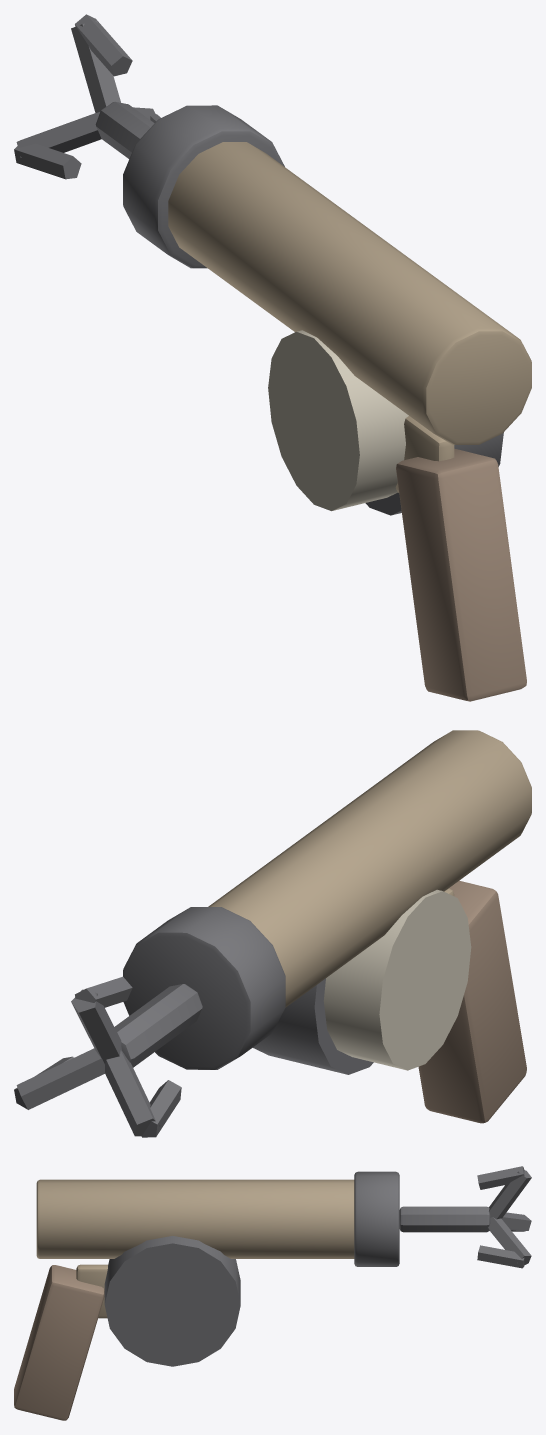
Rendered from tl_grapple.gltf.
The picture shows the model from 3 angles, top to bottom: view 1: azimuth 30°, elevation 25°; view 2: azimuth 150°, elevation 25°; view 3: azimuth 270°, elevation 25°; orthographic projection. The views are drawn at different scales.
Visible parts, largest first — view 1: Body, Hook; view 2: Body, Hook; view 3: Body, Hook.
Part boxes in pixels (bbox=[...]): Body: bbox=[123, 105, 531, 701]; Hook: bbox=[14, 14, 160, 179]; Body: bbox=[123, 730, 531, 1123]; Hook: bbox=[14, 976, 202, 1137]; Body: bbox=[14, 1171, 399, 1420]; Hook: bbox=[399, 1166, 531, 1268].
Bounding box in the file's own units: 0.0951 × 0.24 × 0.4566.
